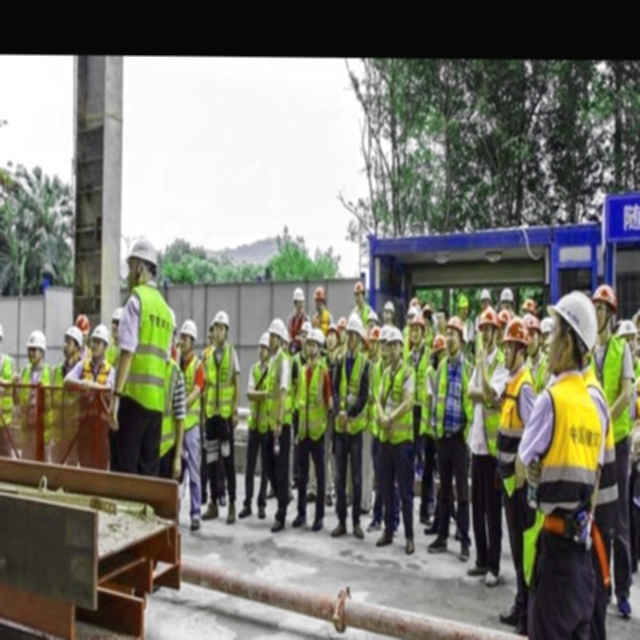Con_Chaleco: (529, 374, 605, 542), (125, 282, 171, 411), (205, 346, 238, 418)
